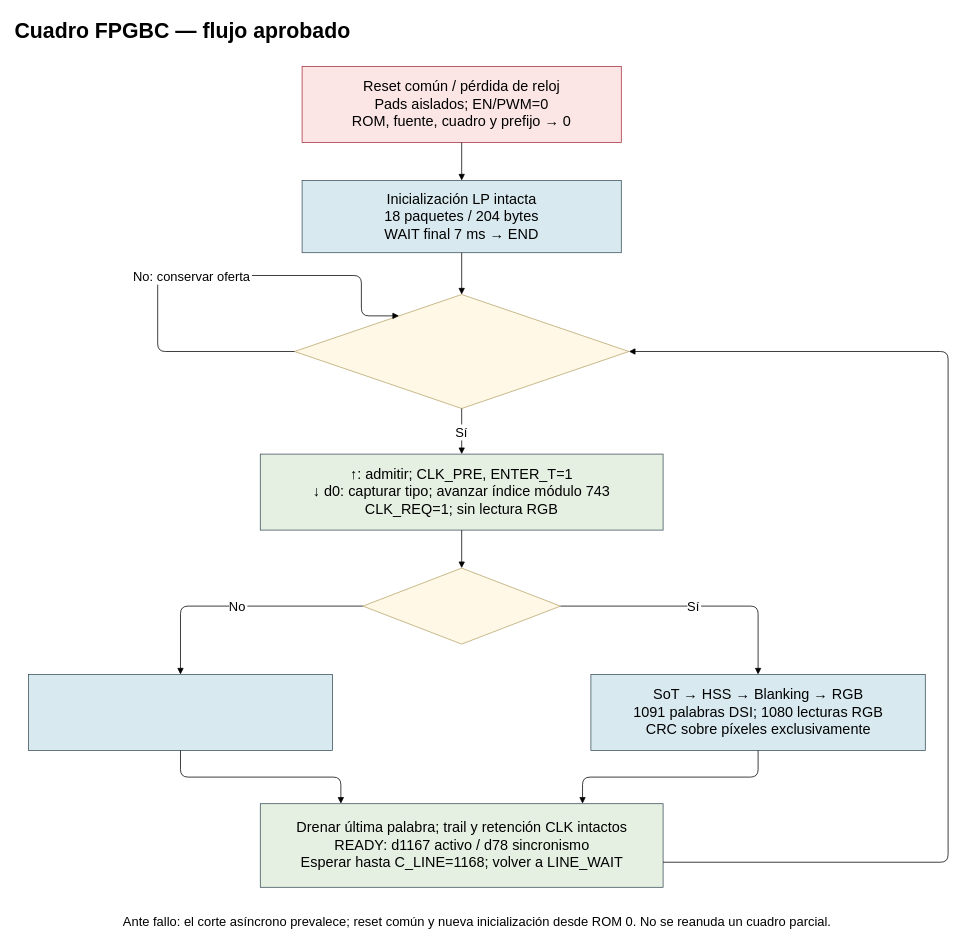
This 967x949 diagram has some shape labels left out. Here are the shapes that lost their labels. From the top down, the centre of each, then its label:
At pixel 461 351: "LINE_WAIT y sin INIT_REQ READY y LOCK y VID_REQ y VID_LINE_RDY".
At pixel 461 605: "¿Tipo activo?".
At pixel 180 712: "SoT por carril → VSS o HSS 2 palabras DSI VID_RD=0".
